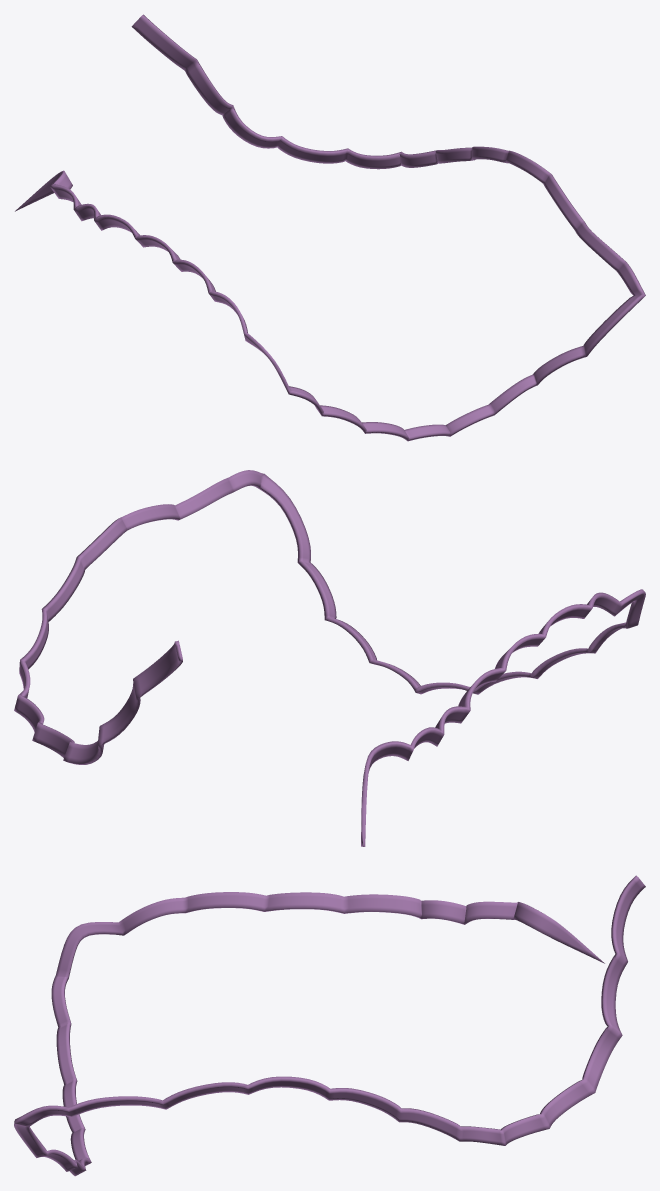
3 renders of one model, top to bottom at view 1: azimuth 30°, elevation 25°; view 2: azimuth 150°, elevation 25°; view 3: azimuth 270°, elevation 25°, orthographic. The views are drawn at different scales.
Visible parts, largest first — view 1: 独立带; view 2: 独立带; view 3: 独立带.
Boxes of the visible parts, x1,y1,x2,y2 form: 独立带: (15, 14, 645, 441); 独立带: (14, 470, 645, 846); 独立带: (14, 875, 645, 1176).
Size of the model in its own units: 0.2227 by 0.1384 by 0.2977.
